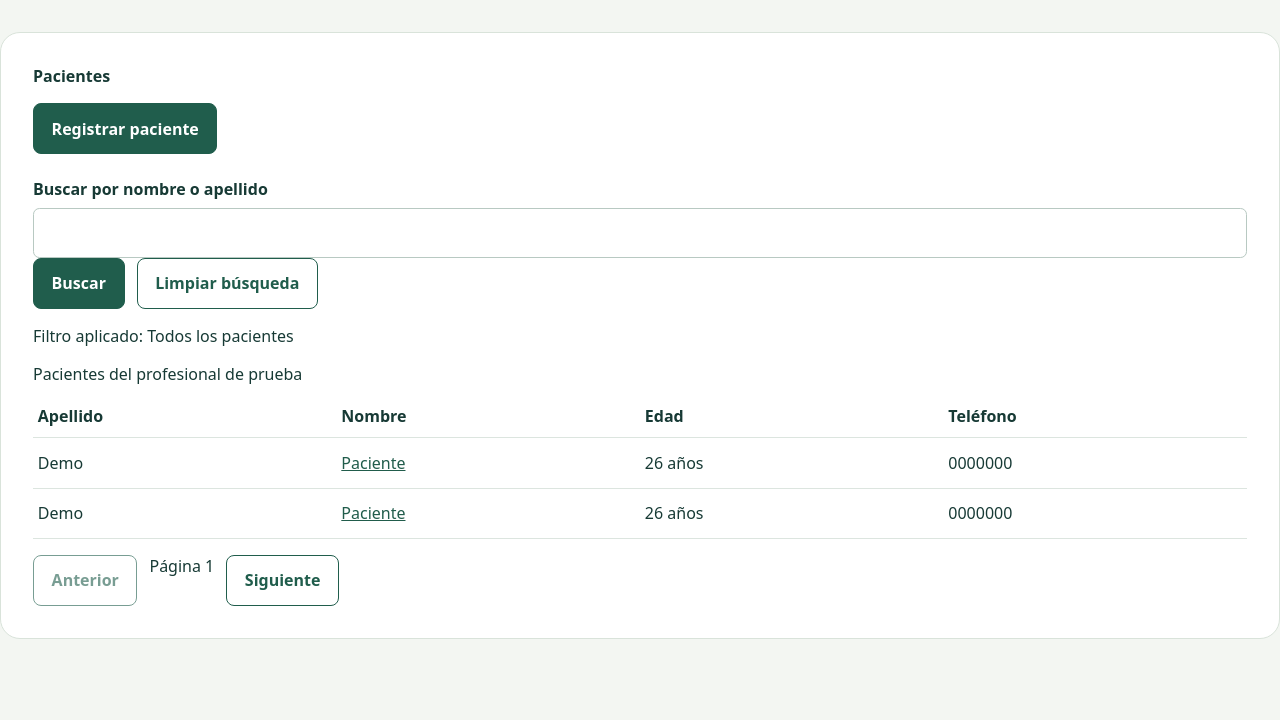
Test: nombres iguales abren el identificador elegido
Click the button with aria-label "Ver perfil de Paciente Demo" at (373, 513), box [341, 499, 406, 527]
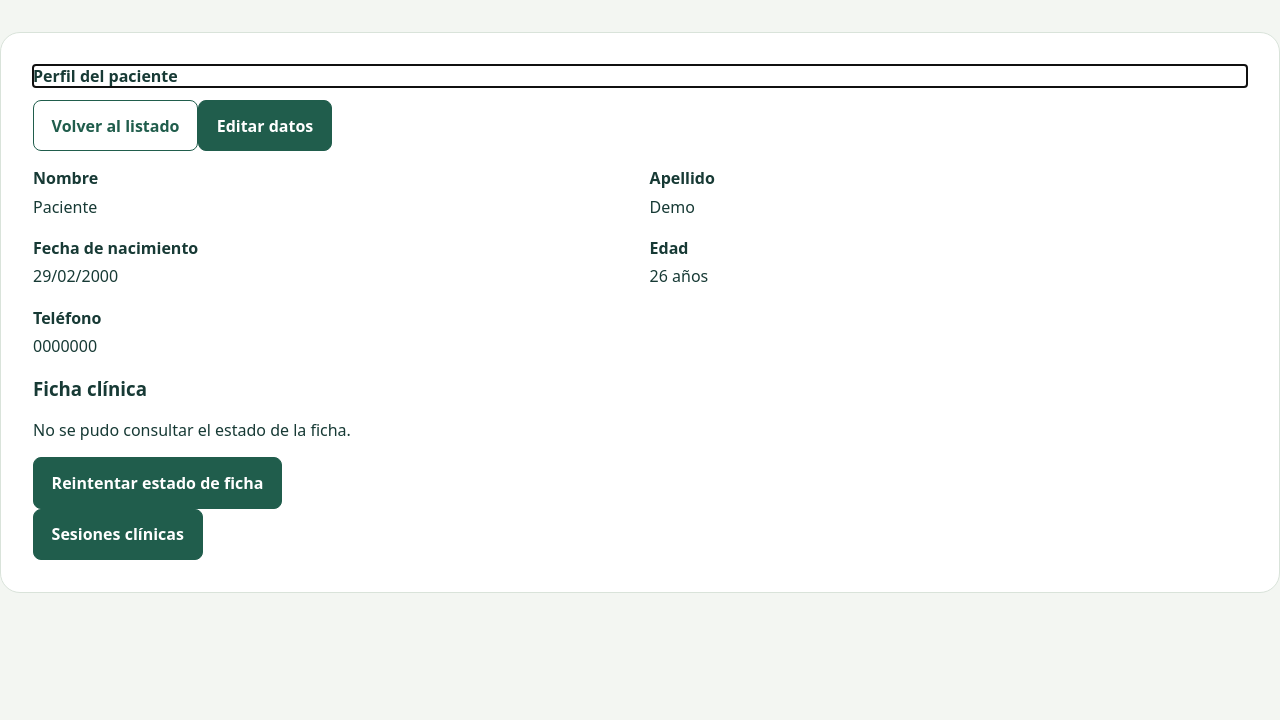
Expected: the text "29/02/2000" is shown, [33, 265, 118, 287]
